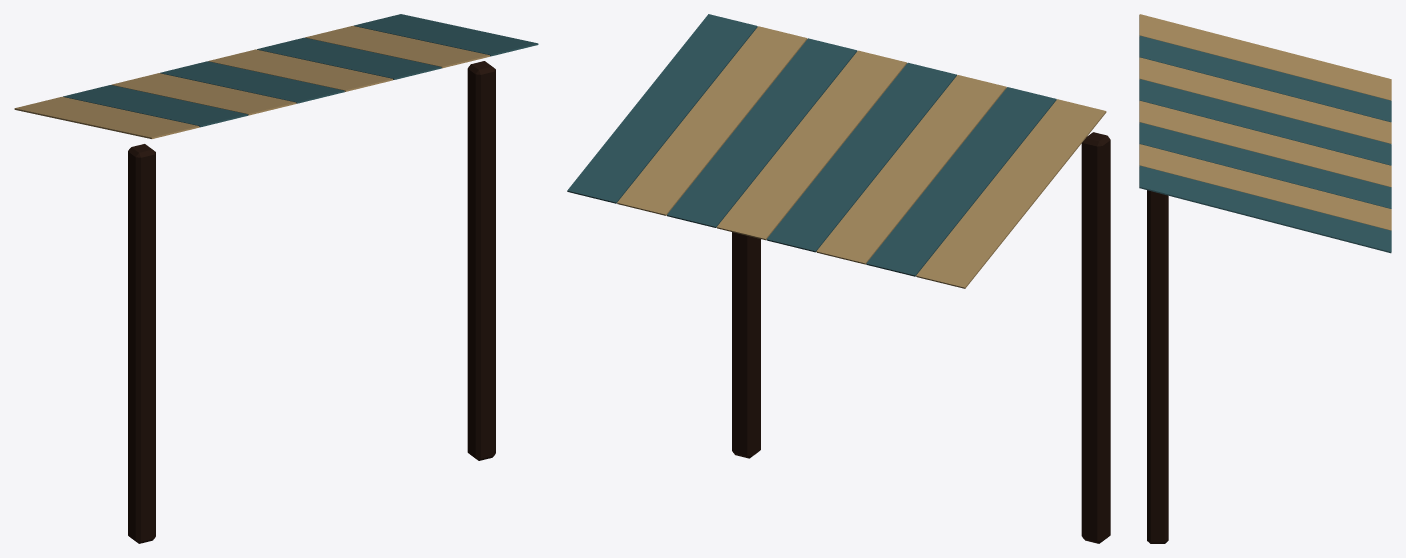
File: Toldo_de_fachada_LOD0.fbx
3 views of the same model, side by side, from view 1: azimuth 30°, elevation 25°; view 2: azimuth 150°, elevation 25°; view 3: azimuth 270°, elevation 25° (orthographic). The views are drawn at different scales.
Parts seen in each view (by area): view 1: Toldo_de_fachada_LOD0; view 2: Toldo_de_fachada_LOD0; view 3: Toldo_de_fachada_LOD0.
Boxes of the visible parts, x1,y1,x2,y2 form: Toldo_de_fachada_LOD0: (14, 14, 538, 543); Toldo_de_fachada_LOD0: (567, 14, 1110, 543); Toldo_de_fachada_LOD0: (1139, 14, 1391, 543).
Bounding box in the file's own units: 234 × 230 × 140.
Materials: 1 (1 with a texture image).
